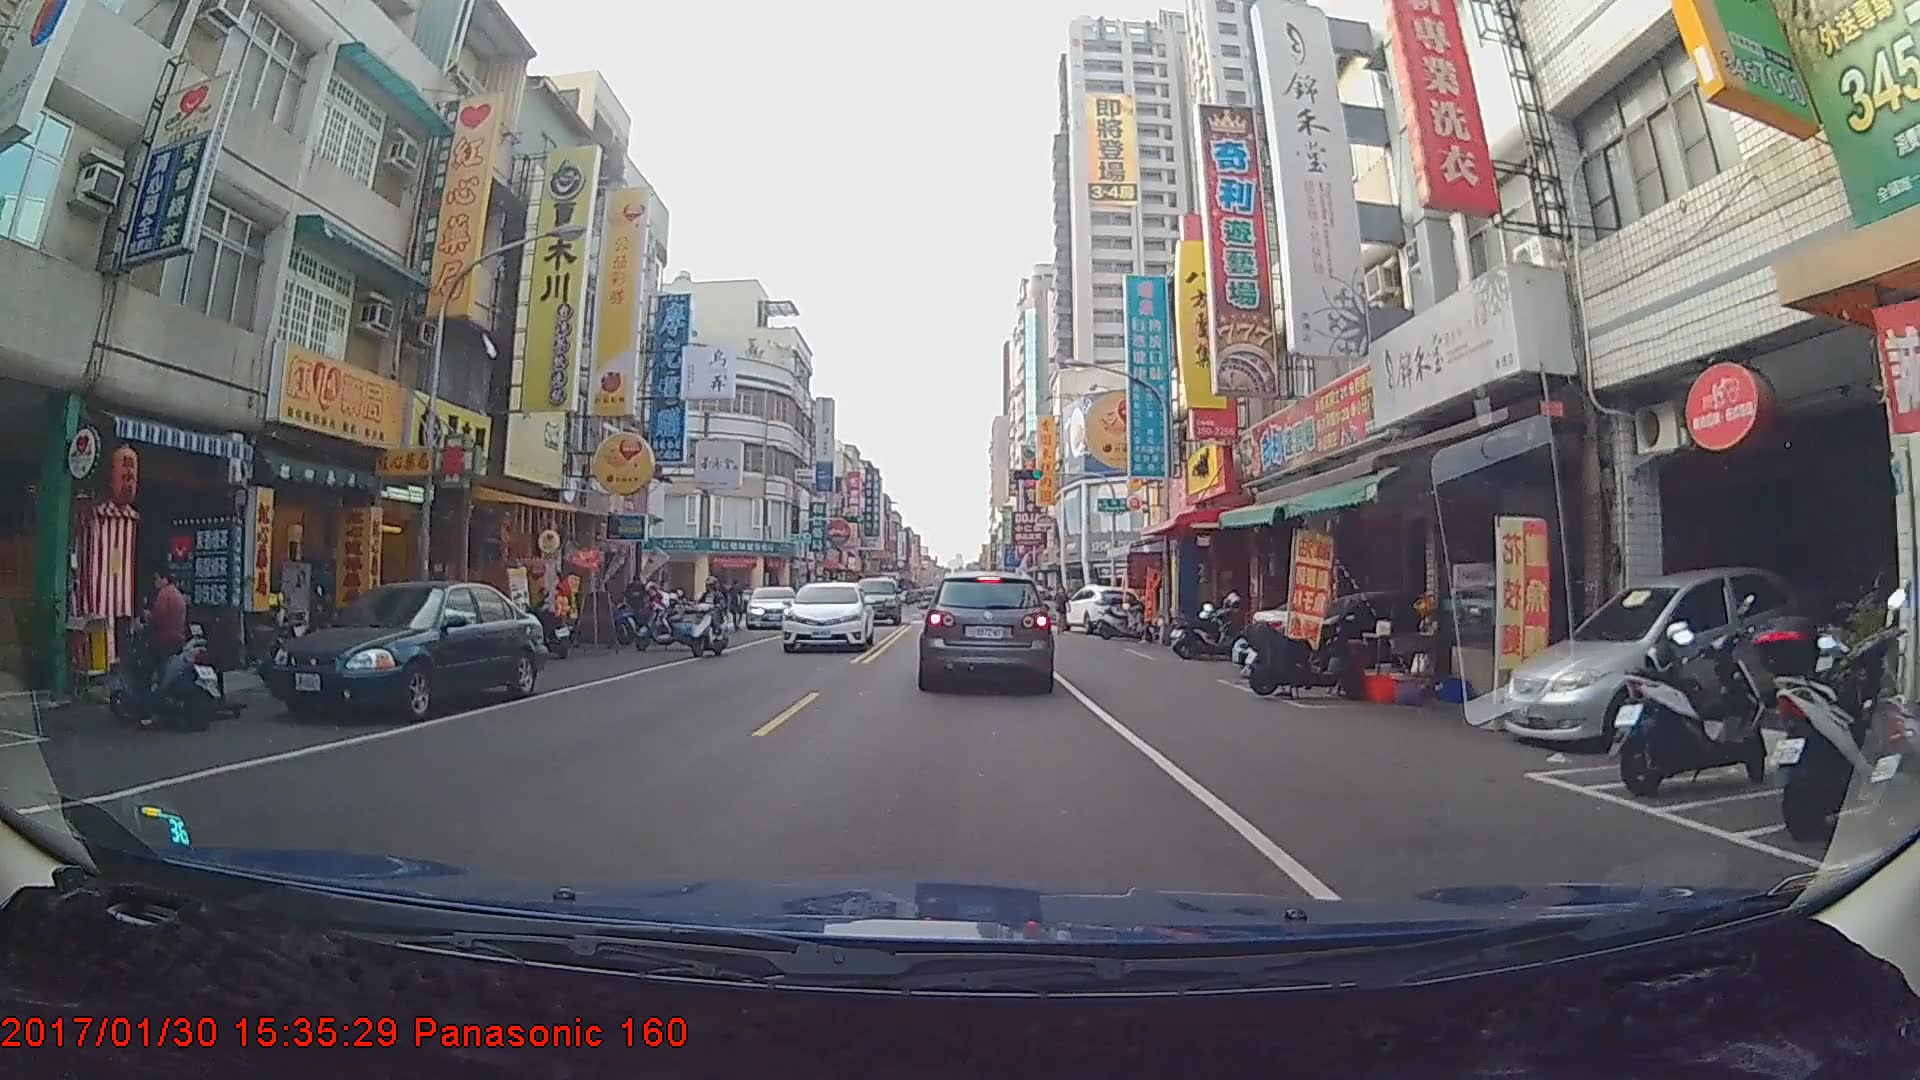pedestrian: (1051, 585, 1072, 635)
rider: (112, 559, 228, 735), (684, 579, 737, 664)
vehicle: (265, 581, 544, 722), (917, 568, 1054, 691), (780, 575, 872, 650), (1058, 583, 1147, 636), (848, 575, 901, 625), (745, 584, 794, 629)
